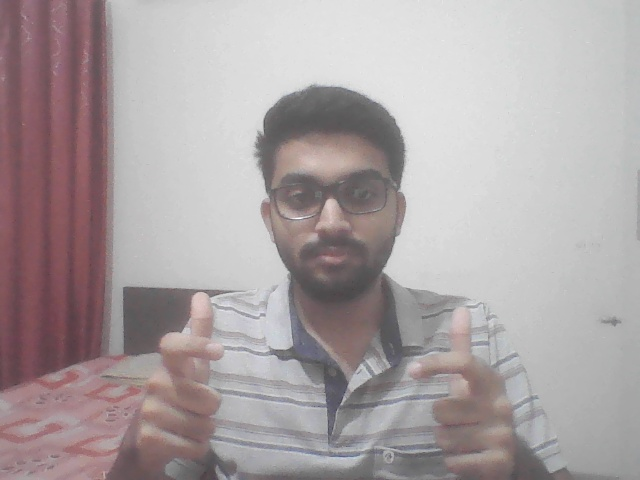big: (117, 290, 536, 470)
